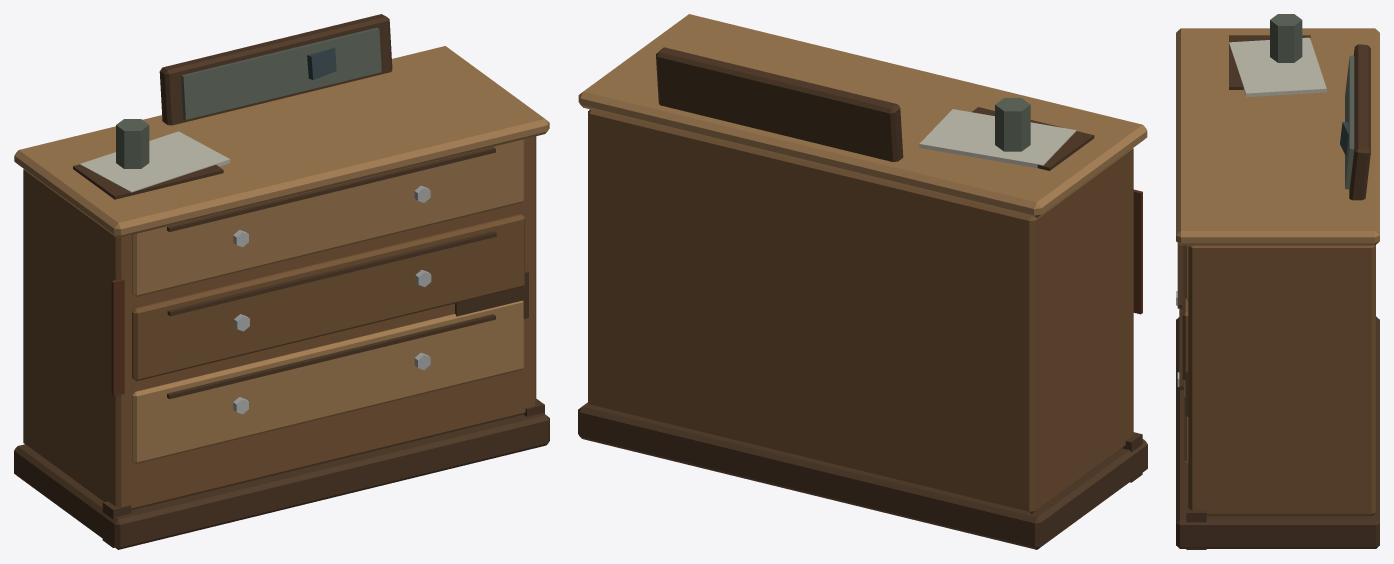
File: furn_dresser.fbx
The picture shows the model from 3 angles, left to right: view 1: azimuth 30°, elevation 25°; view 2: azimuth 150°, elevation 25°; view 3: azimuth 270°, elevation 25°; orthographic projection. The views are drawn at different scales.
Parts seen in each view (by area): view 1: furn_dresser, Drawer_2, Drawer_3, Drawer_1; view 2: furn_dresser; view 3: furn_dresser, Drawer_2, Drawer_3, Drawer_1.
Part boxes in pixels (x1,y1,x2,y2): furn_dresser: [14, 14, 549, 549]; Drawer_2: [132, 214, 525, 381]; Drawer_3: [132, 300, 524, 464]; Drawer_1: [132, 139, 524, 296]; furn_dresser: [578, 14, 1147, 549]; furn_dresser: [1176, 14, 1379, 549]; Drawer_2: [1176, 243, 1188, 380]; Drawer_3: [1177, 308, 1188, 463]; Drawer_1: [1184, 245, 1188, 300].
Bounding box in the file's own units: 1.2 × 0.9968 × 0.5.
